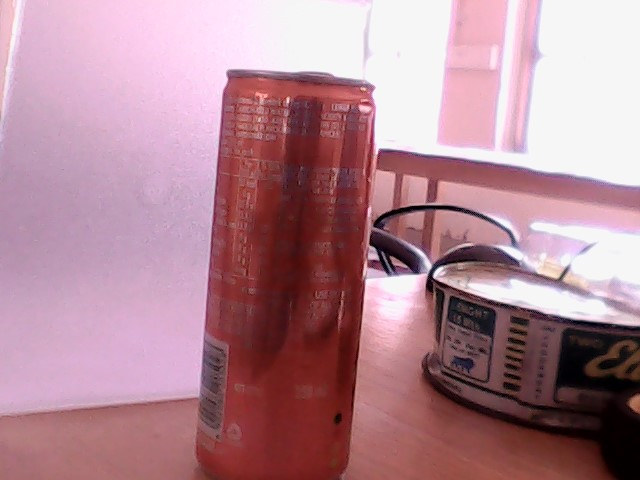Metal: (173, 69, 391, 480)
